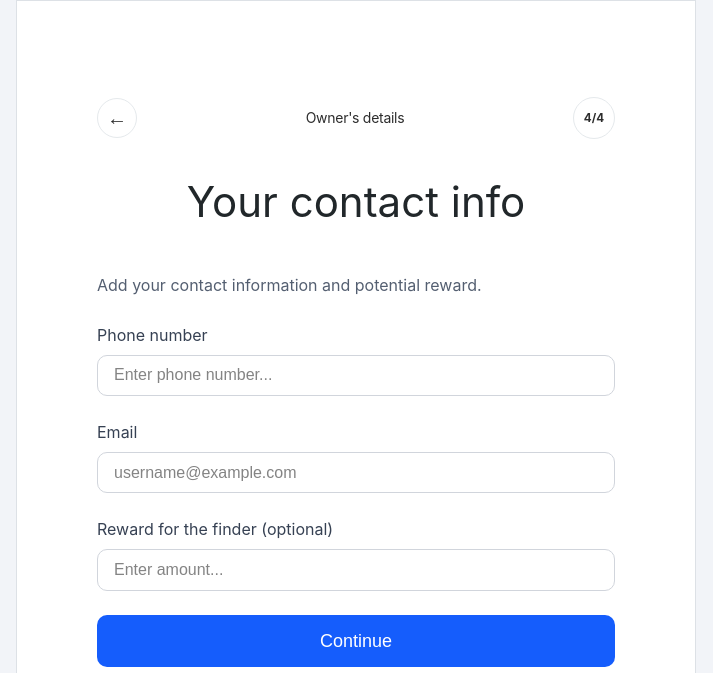
Test case: ContactScreen › validation feedback › should display phone validation error when invalid
The image size is (713, 673).
Type "abc" into the field with test id "contact.phoneNumber.input". click: [356, 375]
box: left=97, top=355, right=615, bottom=396
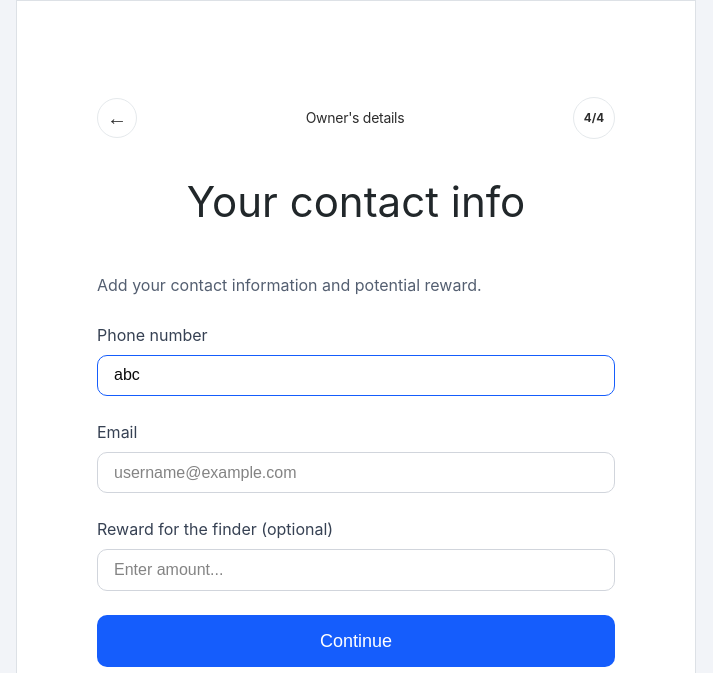
Click the button with test id "contact.continue.button". click: [356, 641]
box: left=97, top=615, right=615, bottom=667
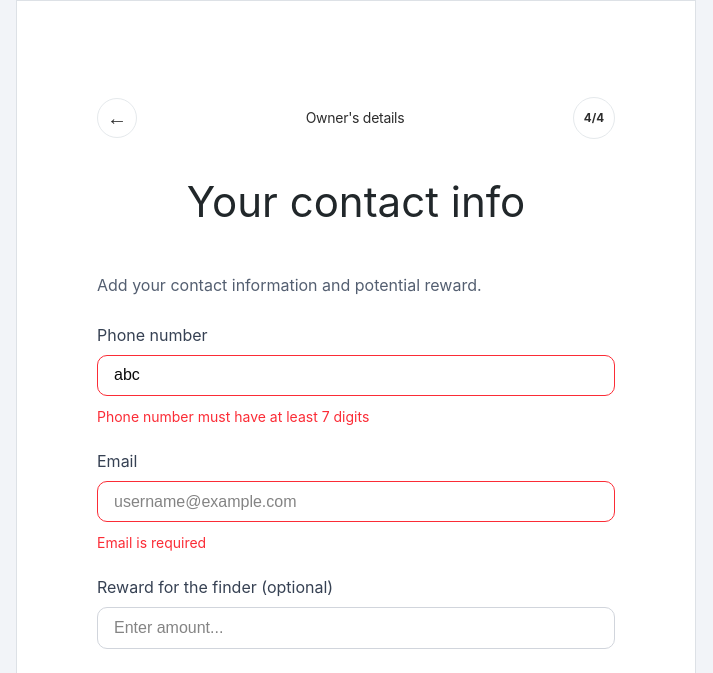
Now the text "Phone number must have at least 7 digits" is shown, box left=97, top=408, right=369, bottom=425
